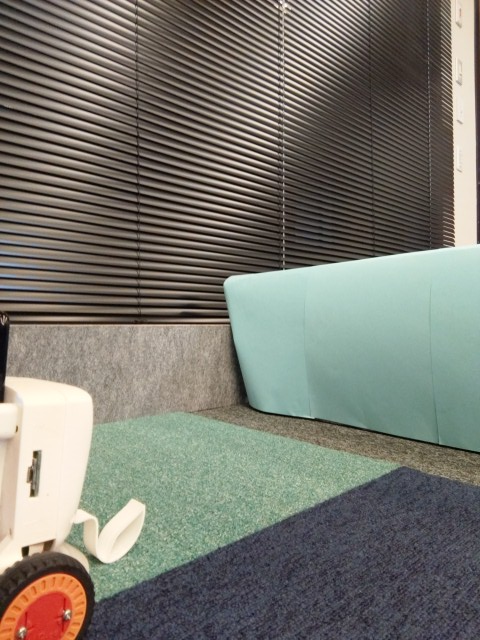bl: (1, 322, 160, 634)
